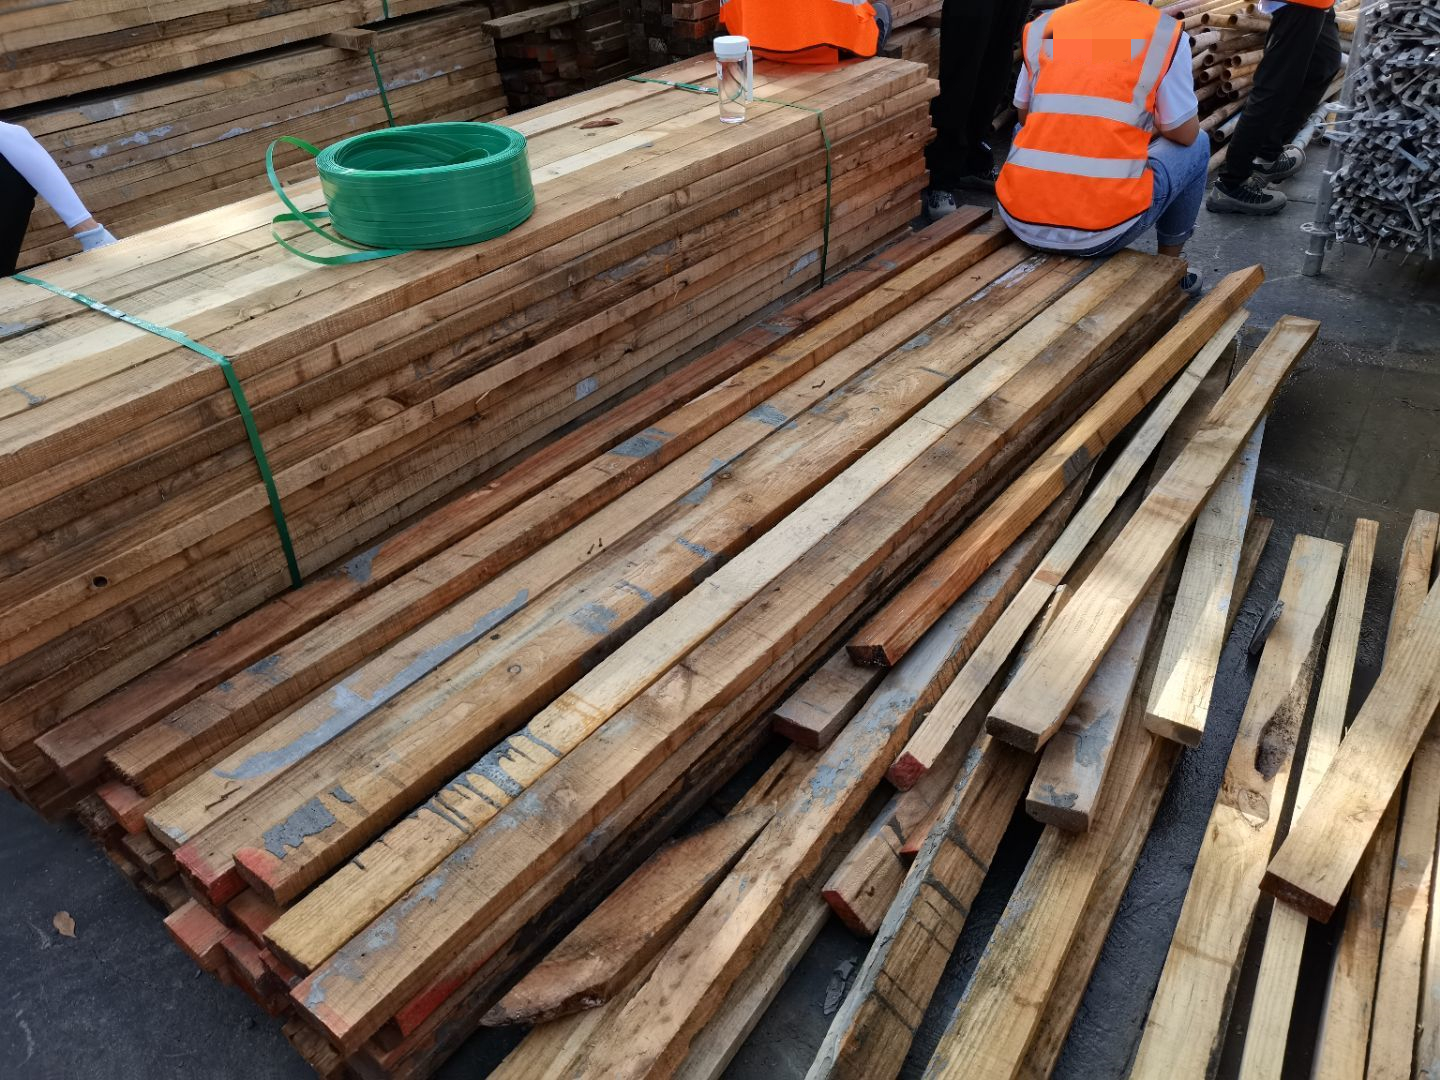person: (999, 1, 1225, 278), (1225, 1, 1343, 228), (686, 1, 909, 101)
vest: (1013, 1, 1167, 239), (717, 1, 878, 63)
wood: (1, 51, 1267, 1080), (1, 6, 517, 276)
